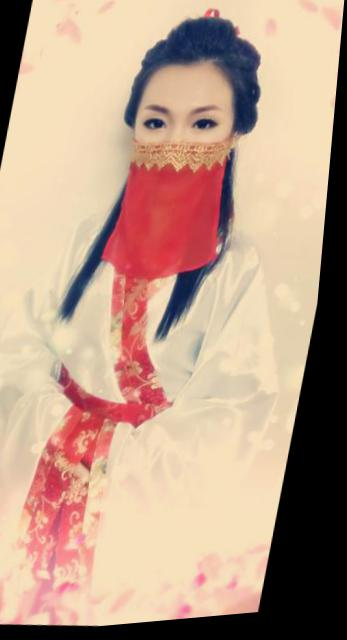WRONG: (126, 94, 235, 203)
